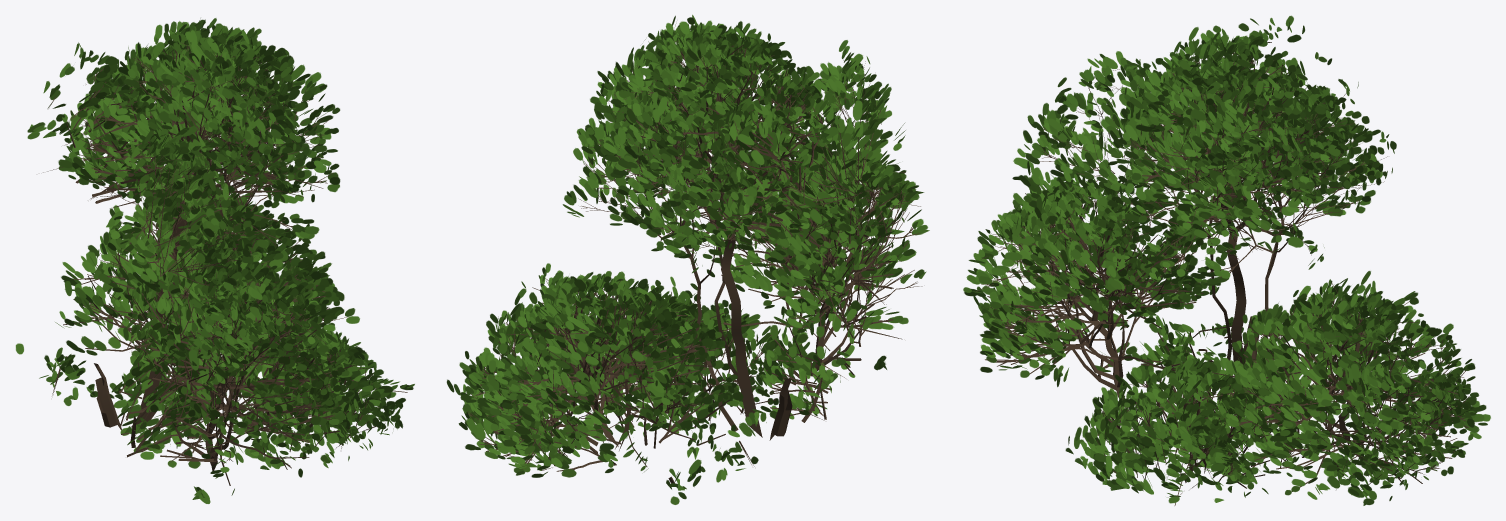
3 views of the same model, side by side, from view 1: azimuth 30°, elevation 25°; view 2: azimuth 150°, elevation 25°; view 3: azimuth 270°, elevation 25° (orthographic). The views are drawn at different scales.
Visible parts, largest first — view 1: oak 01.001_trunk_Mat.001_0.201; view 2: oak 01.001_trunk_Mat.001_0.201; view 3: oak 01.001_trunk_Mat.001_0.201.
Boxes of the visible parts, box(x1,y1,x2,y2) form: oak 01.001_trunk_Mat.001_0.201: box(15, 18, 414, 503); oak 01.001_trunk_Mat.001_0.201: box(446, 14, 929, 504); oak 01.001_trunk_Mat.001_0.201: box(963, 15, 1490, 505).
Size of the model in its own units: 2.95 by 3.77 by 4.51.
2 materials, 1 textured.
